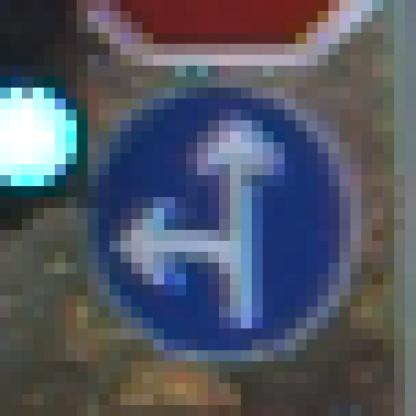Straight or Left: (67, 67, 362, 362)
